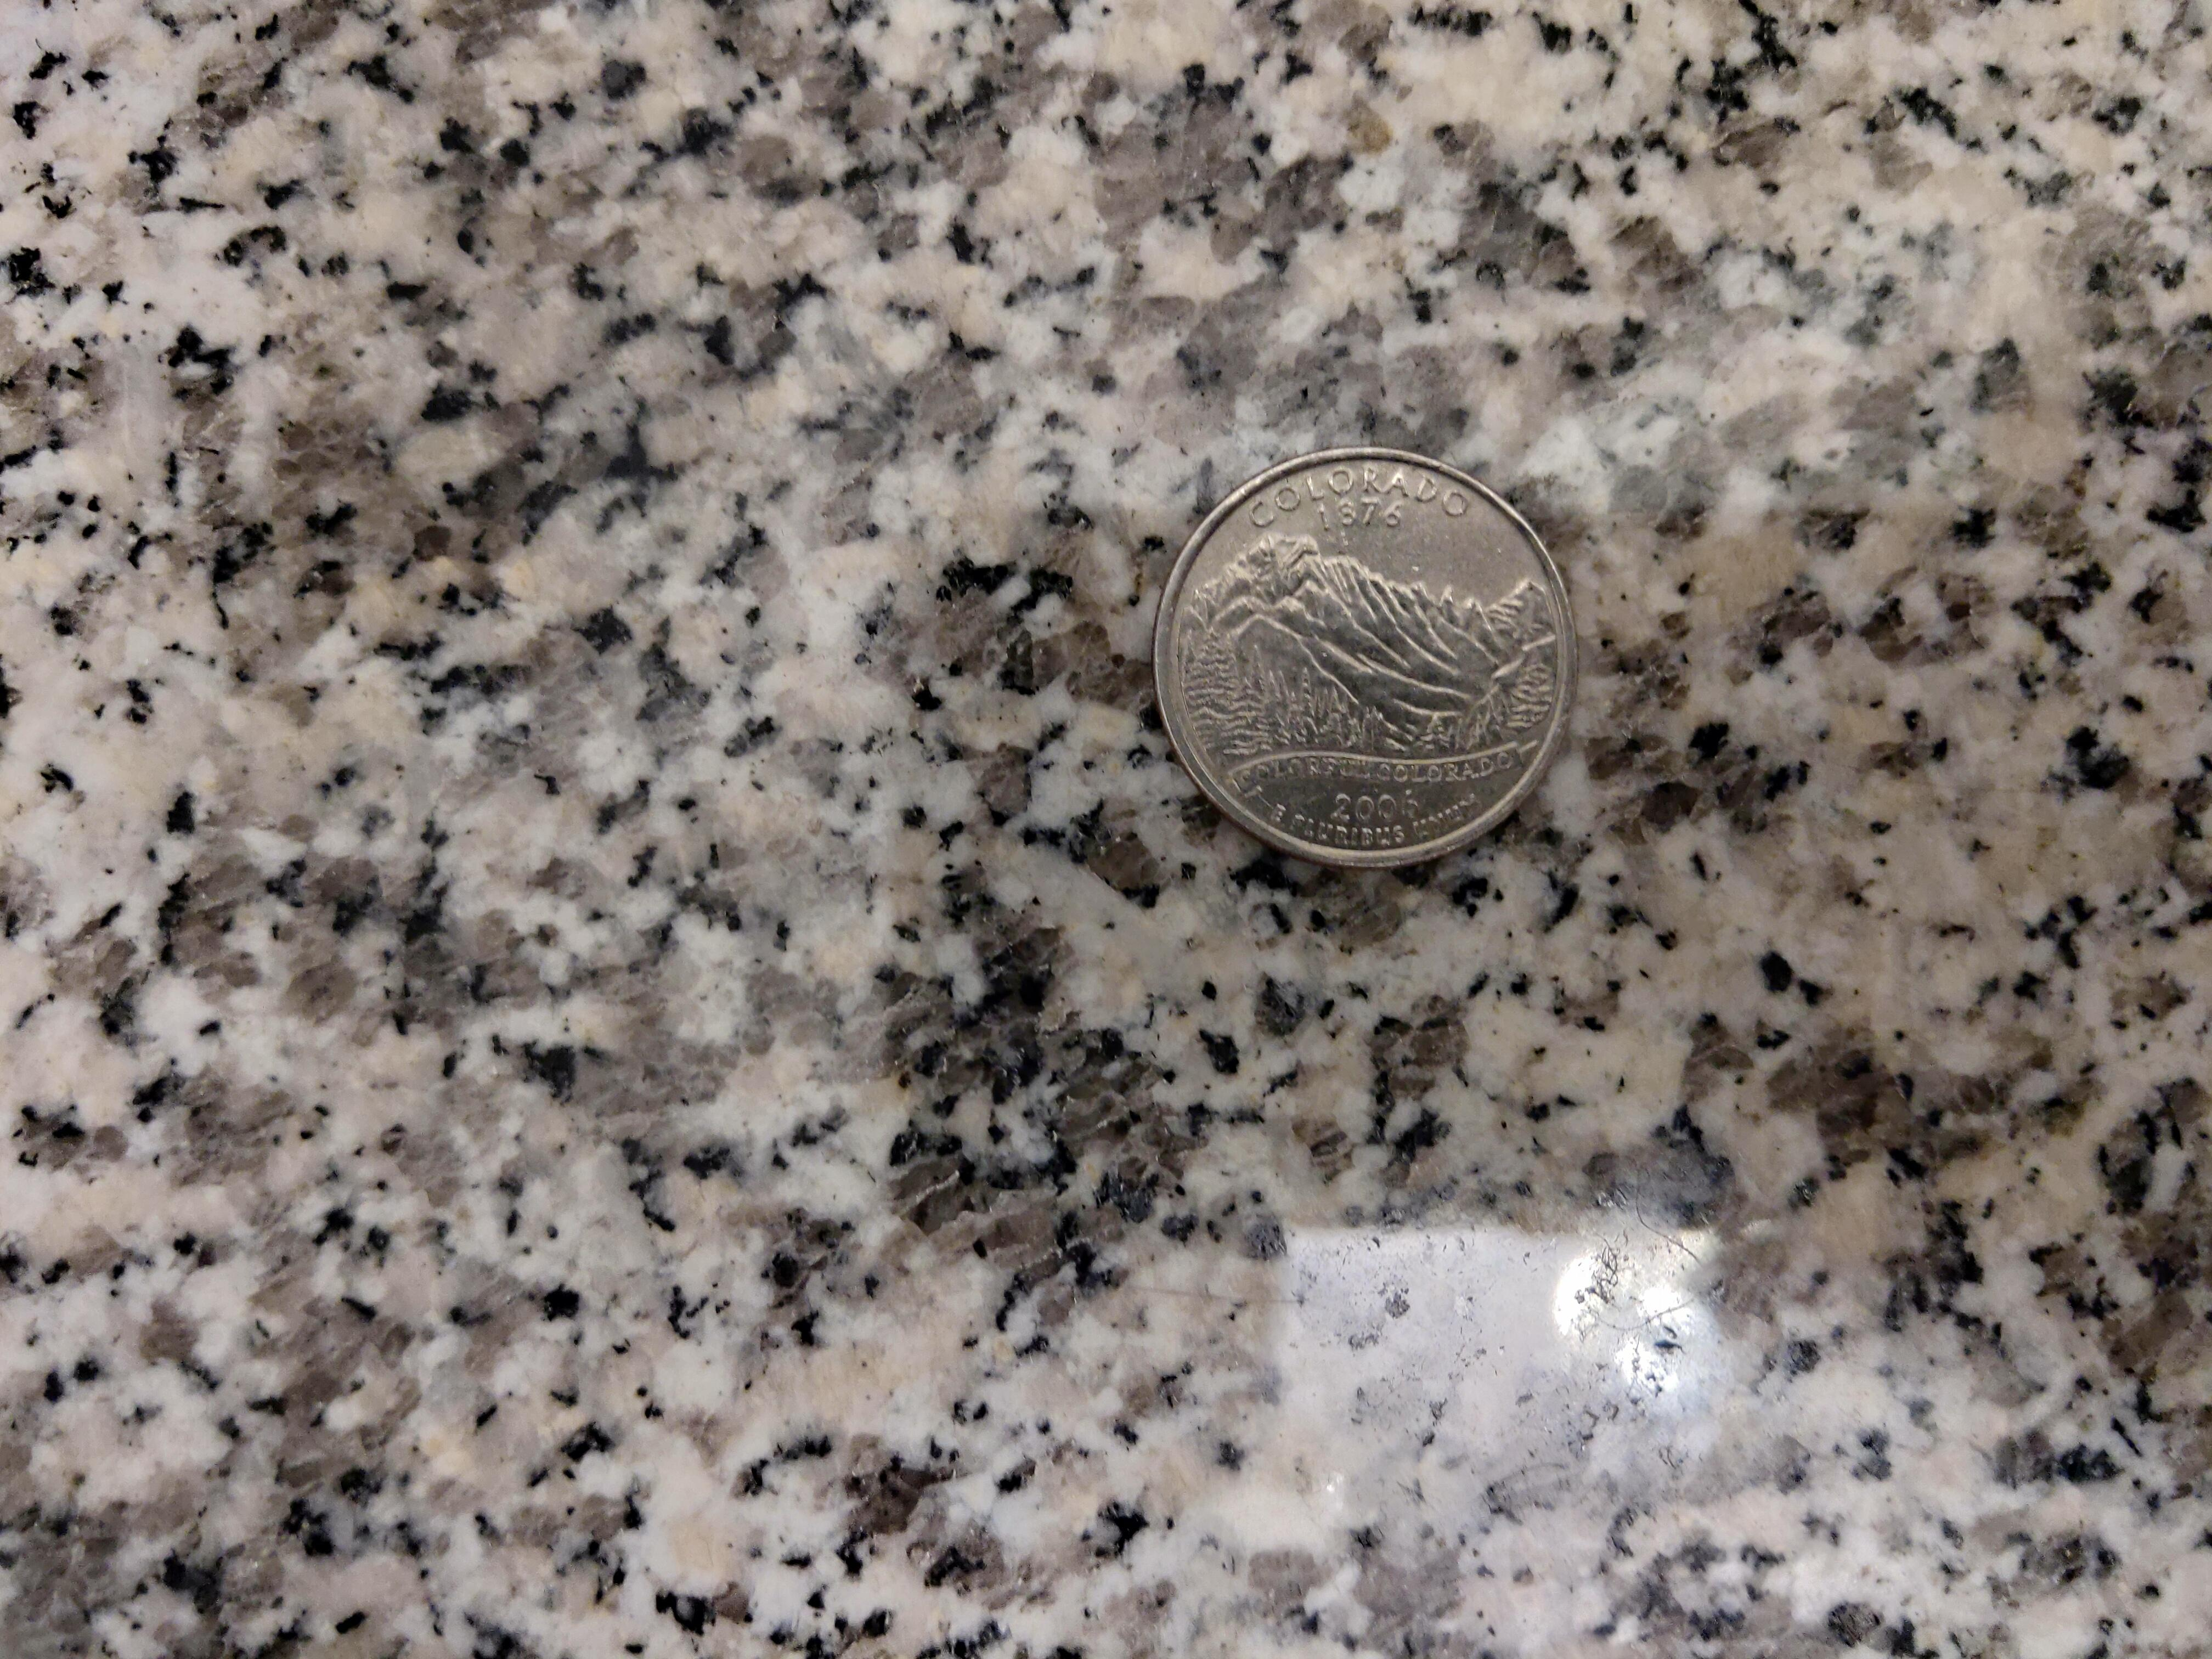Quarter: (1151, 448, 1580, 870)
